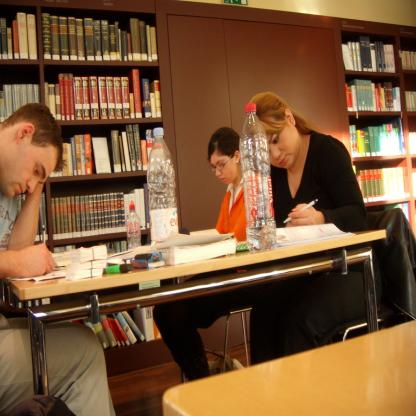book: (0, 66, 164, 118), (0, 10, 158, 60), (54, 182, 152, 242), (50, 125, 160, 176), (145, 228, 243, 268), (73, 308, 166, 349), (16, 246, 102, 284), (344, 76, 406, 115), (340, 36, 398, 74), (353, 162, 409, 200), (348, 118, 403, 156), (274, 228, 360, 246), (112, 244, 163, 270), (22, 188, 40, 239), (102, 239, 133, 256), (394, 47, 415, 71), (38, 189, 47, 236), (404, 89, 416, 114), (48, 245, 82, 251), (409, 129, 416, 155)
